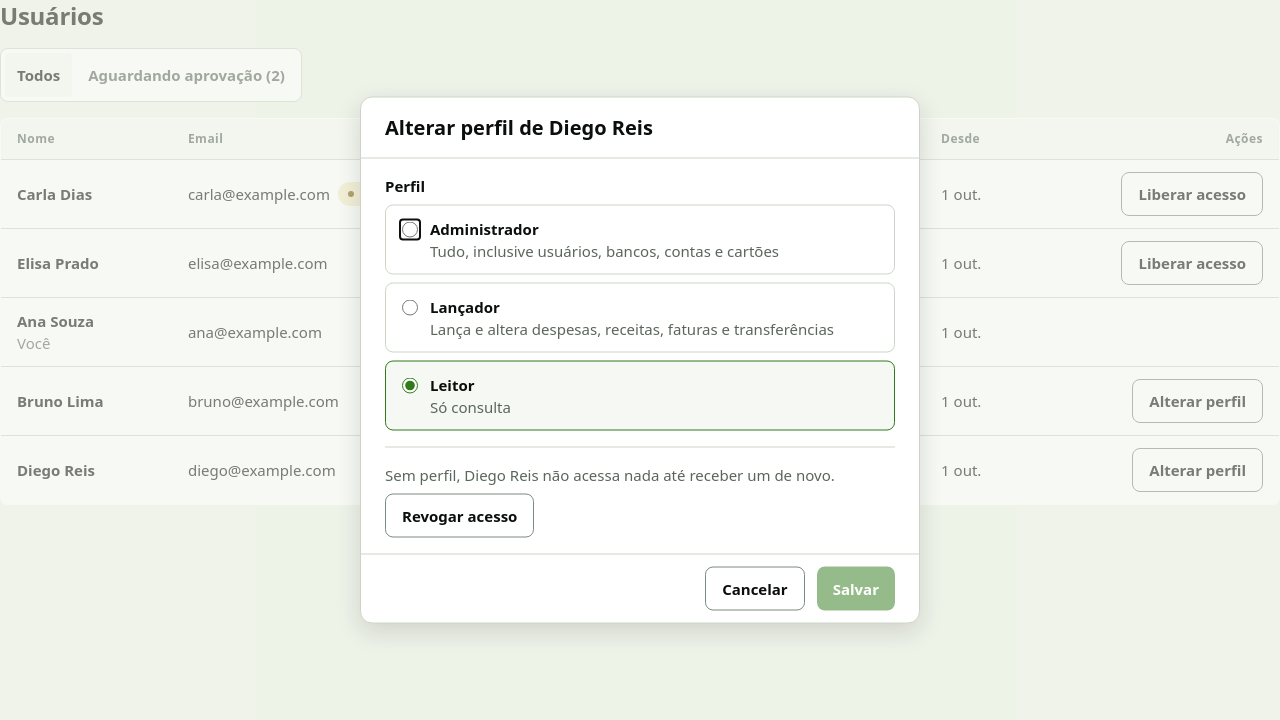
UsersPage › shows CANNOT_CHANGE_OWN_PROFILE in the dialog alert
The image size is (1280, 720).
Click the radio button labelled "Lançador": x=410, y=308 402,300 -> 418,316
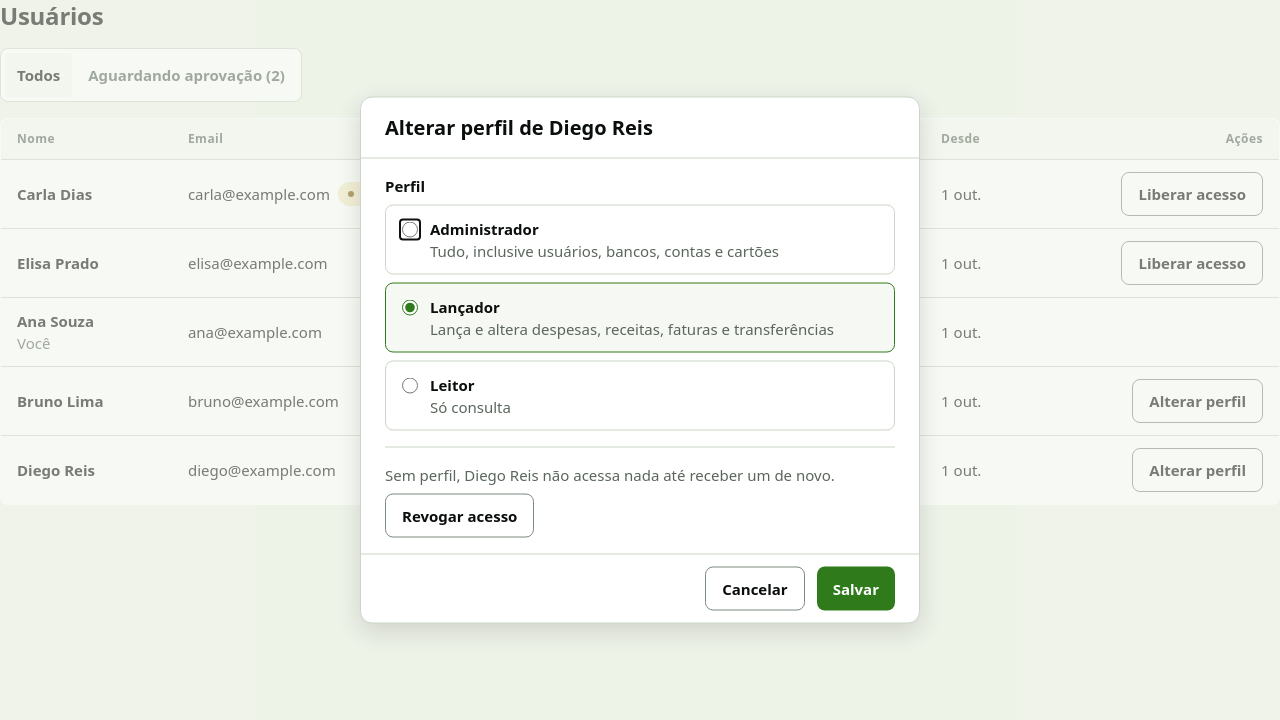
Click the button "Salvar": x=856, y=588 817,566 -> 895,610
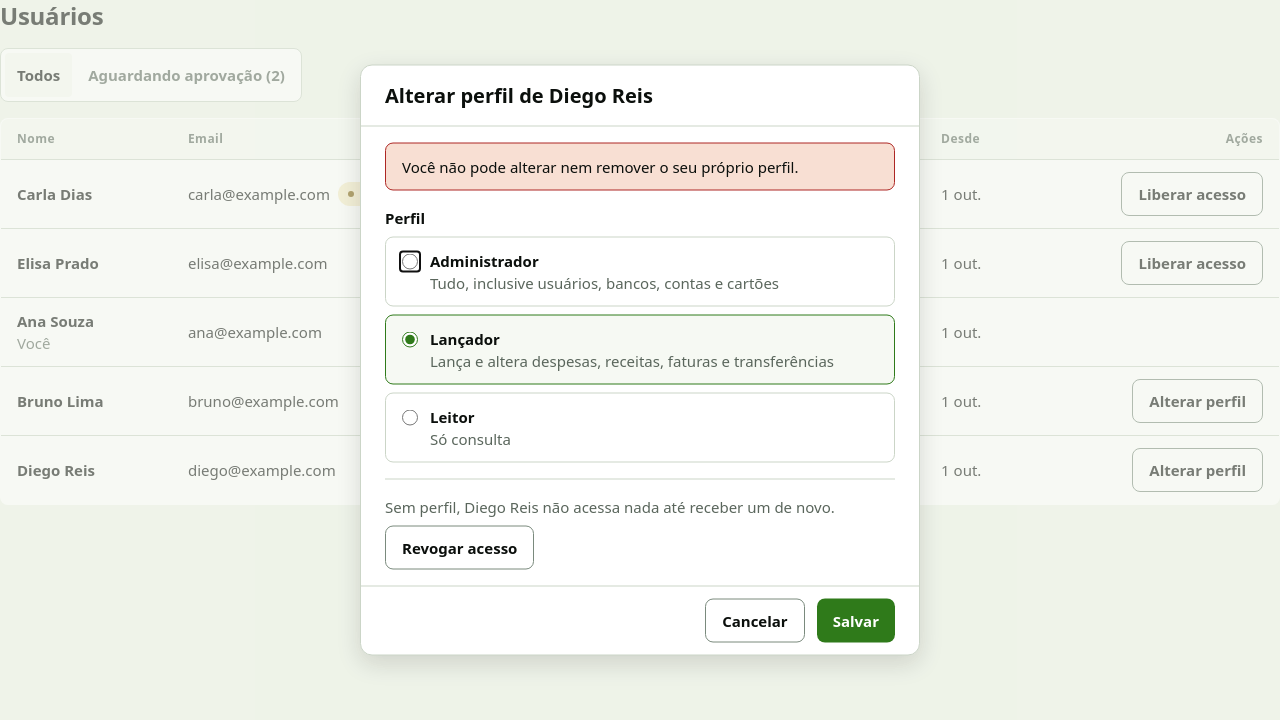
Expected: the message reads "Você não pode alterar nem remover o seu próprio perfil.", 402,156 -> 798,176
